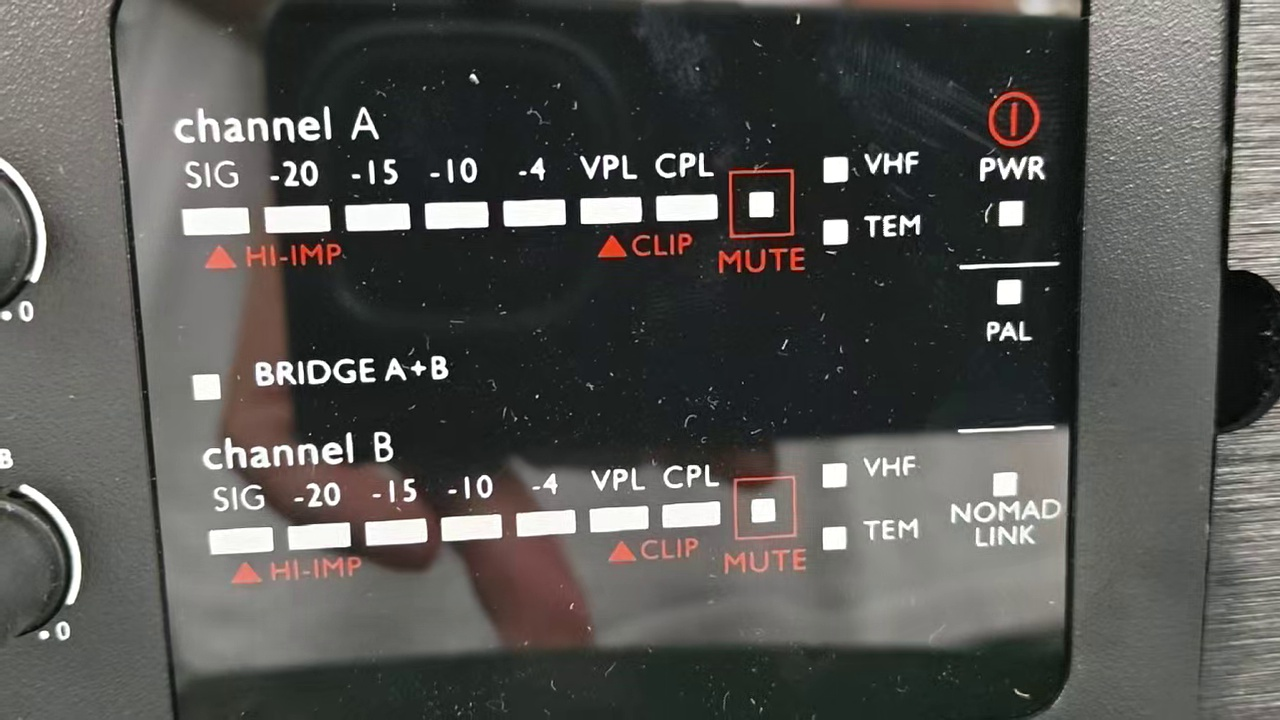FP_CPL: (652, 146, 722, 233), (655, 459, 727, 530)
FP_PWR: (970, 151, 1046, 236)
FP_PWR_area: (962, 83, 1059, 267)
FP_SIG_area: (204, 433, 939, 594), (178, 148, 934, 272)
FP_VPL: (582, 460, 658, 540), (577, 149, 645, 229)
